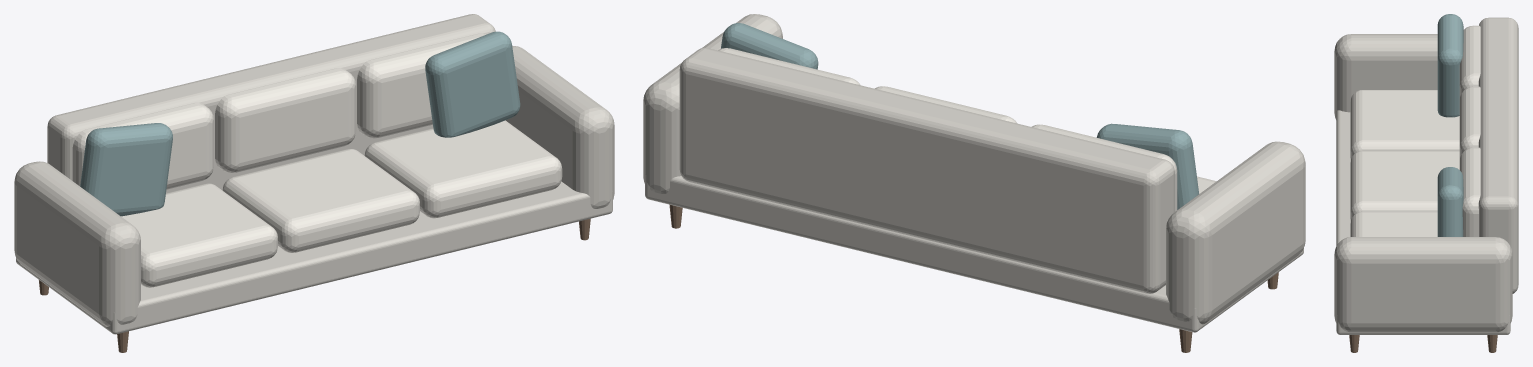
File: sofa_3seat.glb
3 renders of one model, left to right at view 1: azimuth 30°, elevation 25°; view 2: azimuth 150°, elevation 25°; view 3: azimuth 270°, elevation 25°, orthographic. The views are drawn at different scales.
Visible parts, largest first — view 1: sofa_3seat_2, sofa_3seat_0, sofa_3seat_3, sofa_3seat_1; view 2: sofa_3seat_0, sofa_3seat_3, sofa_3seat_2, sofa_3seat_1; view 3: sofa_3seat_0, sofa_3seat_2, sofa_3seat_3, sofa_3seat_1.
Boxes of the visible parts, box(x1,y1,x2,y2) form: sofa_3seat_2: box(72, 33, 562, 287); sofa_3seat_0: box(14, 14, 614, 334); sofa_3seat_3: box(80, 31, 520, 216); sofa_3seat_1: box(39, 218, 590, 352); sofa_3seat_0: box(643, 14, 1305, 332); sofa_3seat_3: box(721, 23, 1198, 209); sofa_3seat_2: box(718, 48, 1216, 211); sofa_3seat_1: box(669, 204, 1278, 352); sofa_3seat_0: box(1334, 17, 1518, 334); sofa_3seat_2: box(1350, 25, 1480, 236); sofa_3seat_3: box(1437, 14, 1463, 236); sofa_3seat_1: box(1349, 335, 1497, 352).
Size of the model in its own units: 2.6 by 0.8387 by 0.9199.
